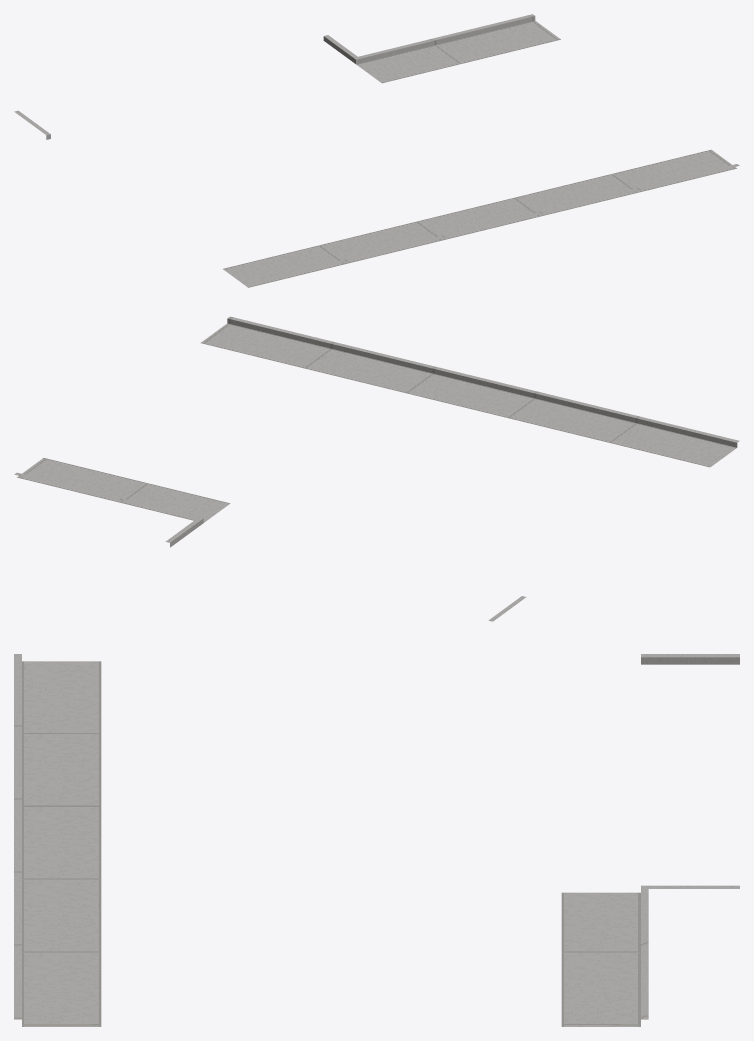
File: kd_stage_135ded_3_12_bounded.glb
The picture shows the model from 3 angles, top to bottom: view 1: azimuth 30°, elevation 25°; view 2: azimuth 150°, elevation 25°; view 3: azimuth 270°, elevation 25°; orthographic projection. The views are drawn at different scales.
Parts seen in each view (by area): view 1: kd_stage_135ded_3_12_bounded; view 2: kd_stage_135ded_3_12_bounded; view 3: kd_stage_135ded_3_12_bounded.
Boxes of the visible parts, x1,y1,x2,y2 form: kd_stage_135ded_3_12_bounded: (14,14,739,287); kd_stage_135ded_3_12_bounded: (14,316,739,621); kd_stage_135ded_3_12_bounded: (14,654,739,1026).
Size of the model in its own units: 5.45 by 0.05 by 4.58.
1 material, 1 textured.
